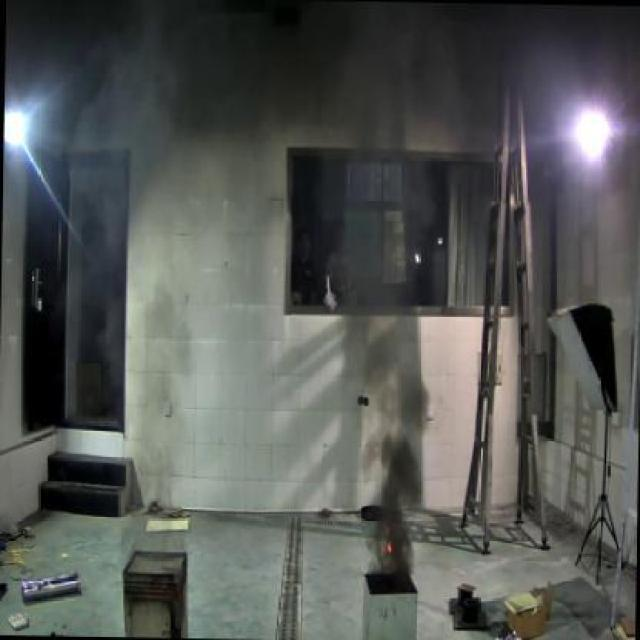fire: (359, 373, 432, 570)
